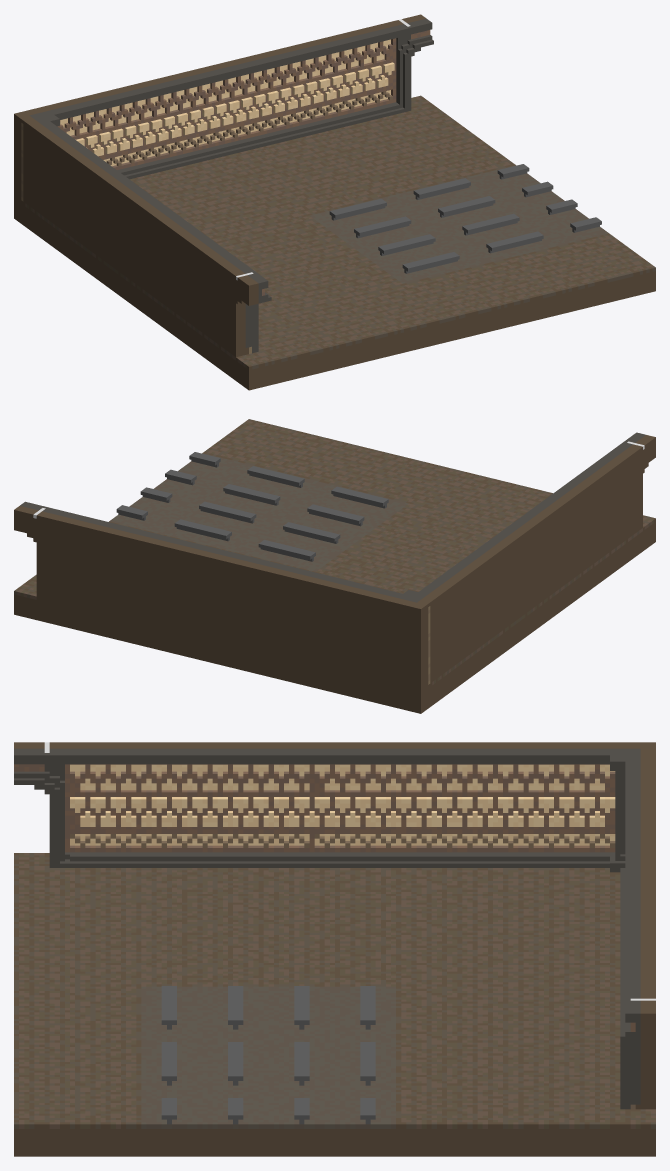
File: SpeechRoom-2.obj
The picture shows the model from 3 angles, top to bottom: view 1: azimuth 30°, elevation 25°; view 2: azimuth 150°, elevation 25°; view 3: azimuth 270°, elevation 25°; orthographic projection. The views are drawn at different scales.
Size of the model in its own units: 12.6 by 3.1 by 12.6.
Materials: 1 (1 with a texture image).
